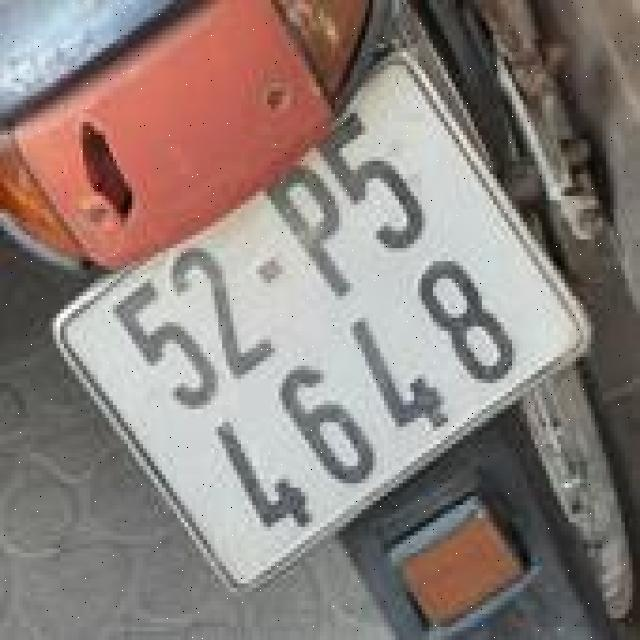2: (150, 220, 292, 395)
4: (332, 287, 471, 458), (196, 397, 332, 552)
5: (303, 95, 442, 271), (99, 266, 237, 433)
6: (259, 339, 397, 502)
8: (396, 237, 536, 407)
P: (249, 141, 385, 317)
